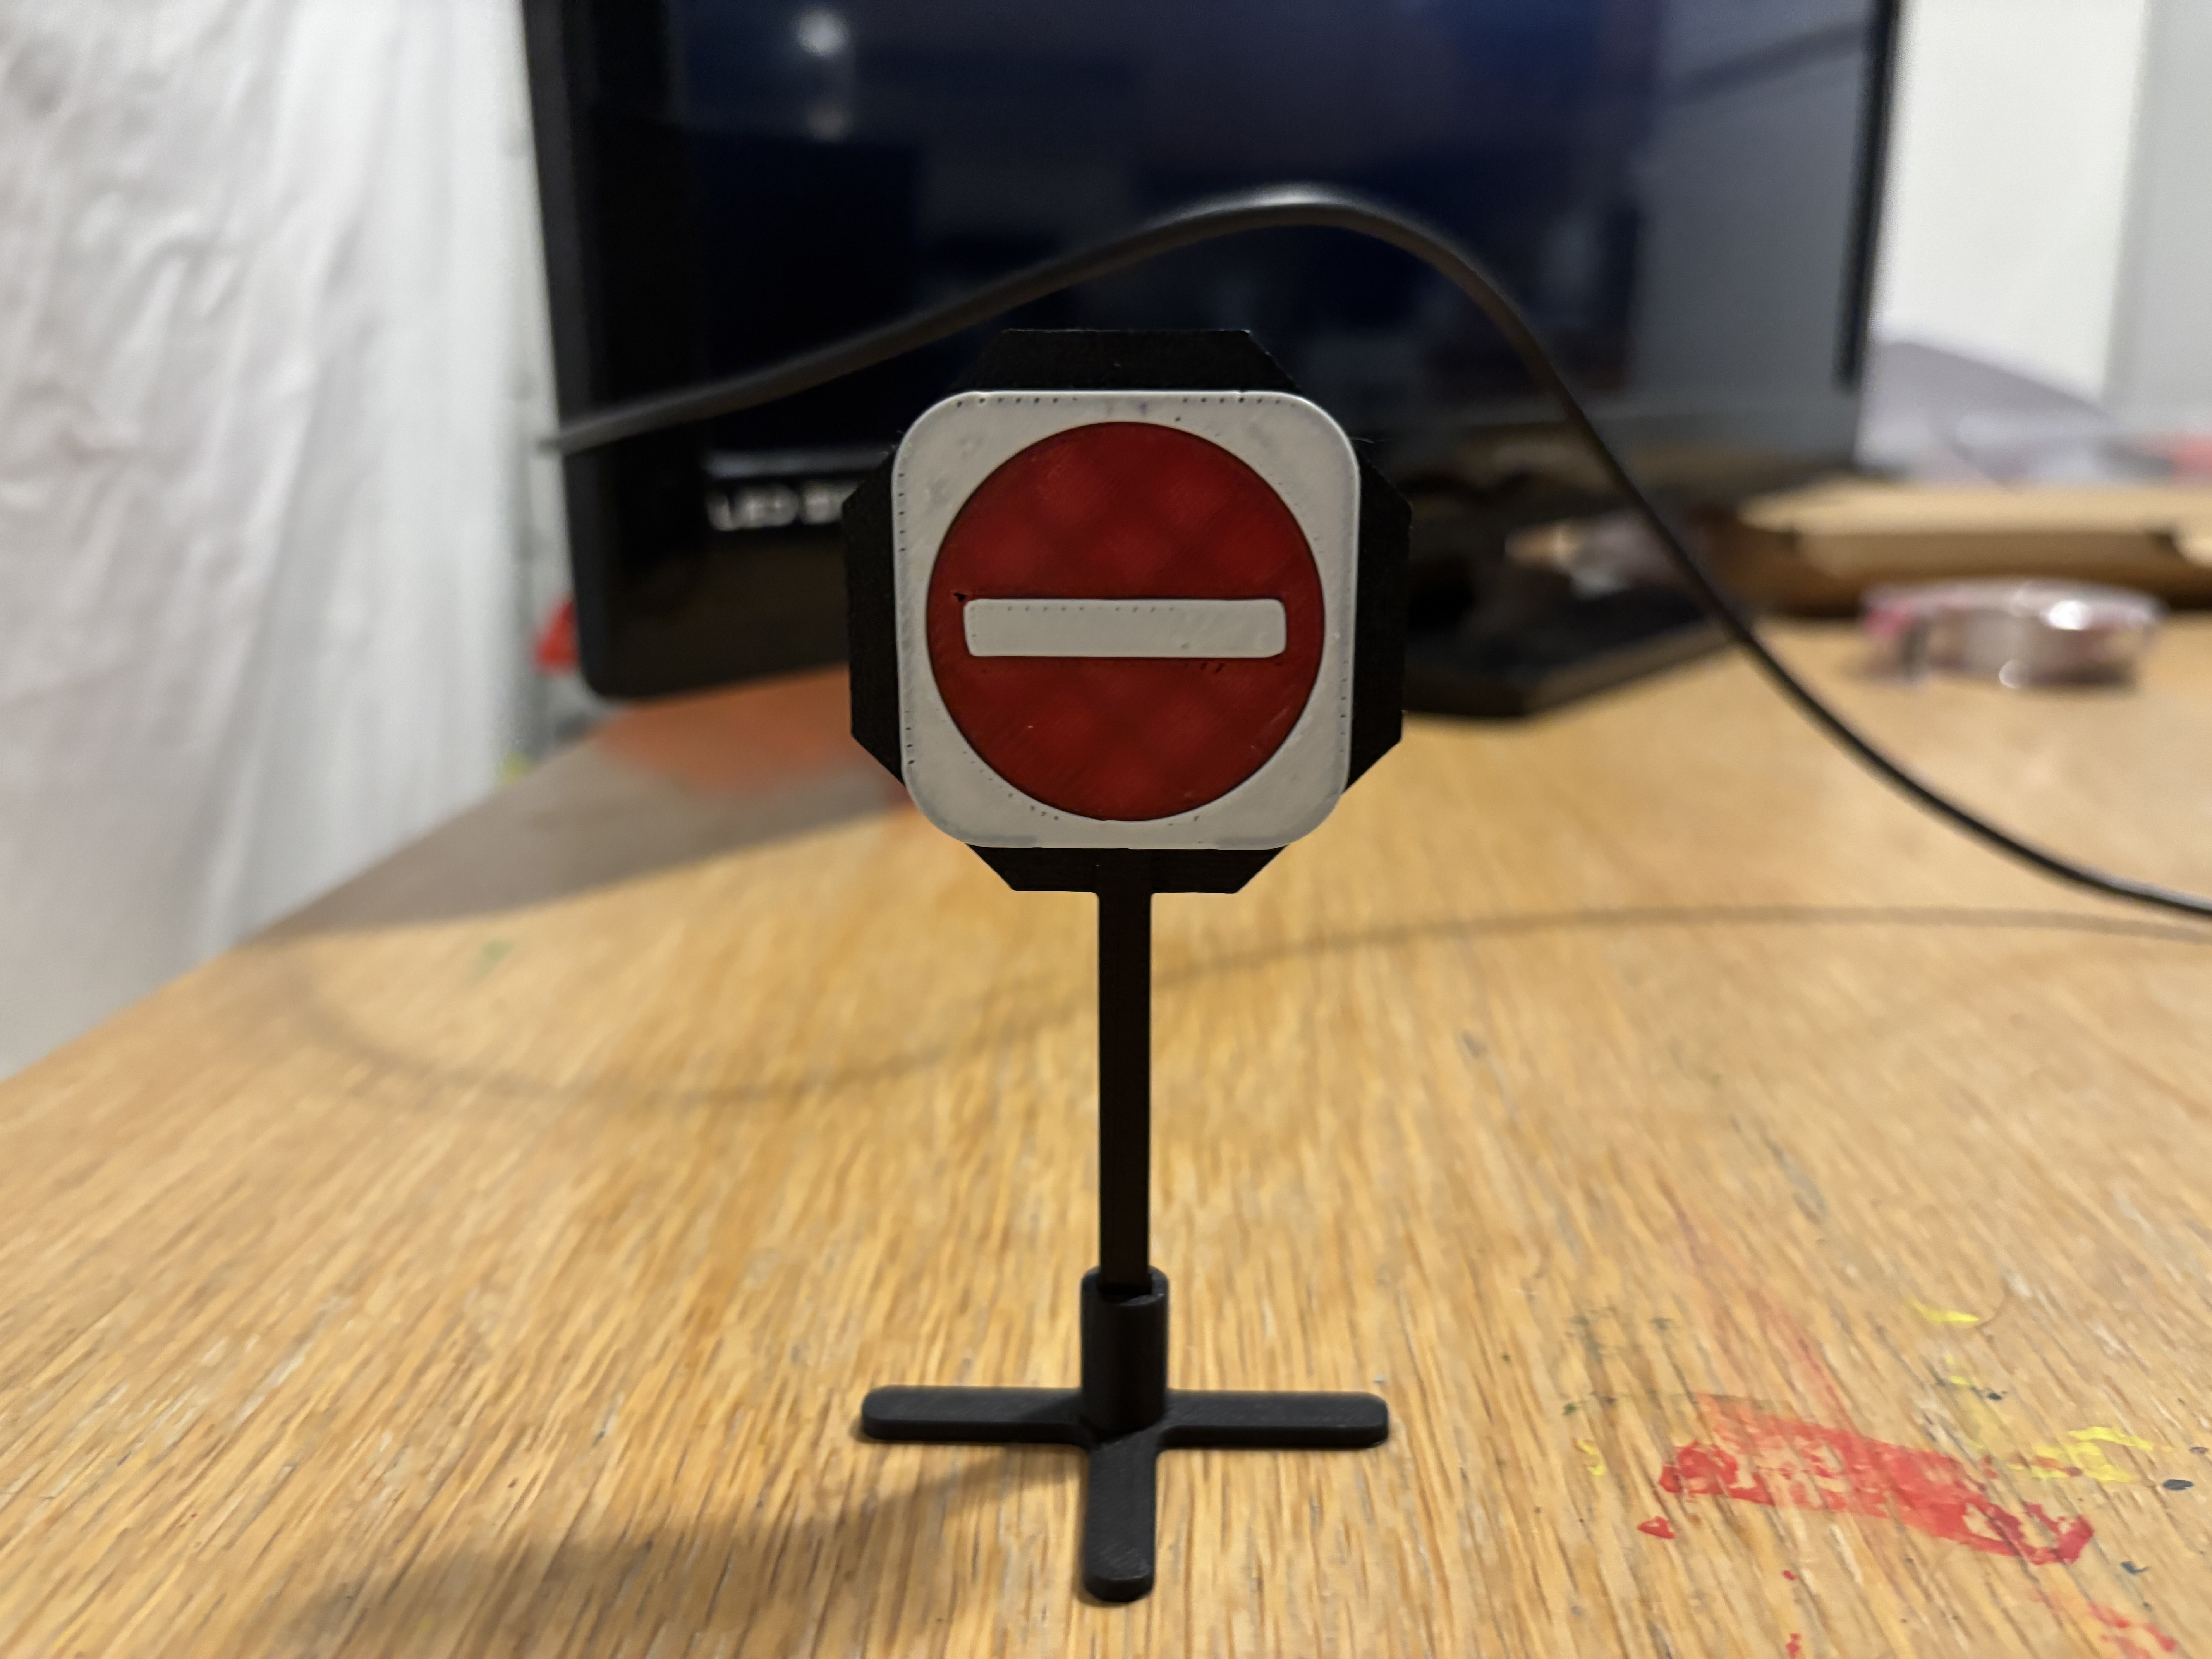sign_noentry: (881, 376, 1360, 864)
